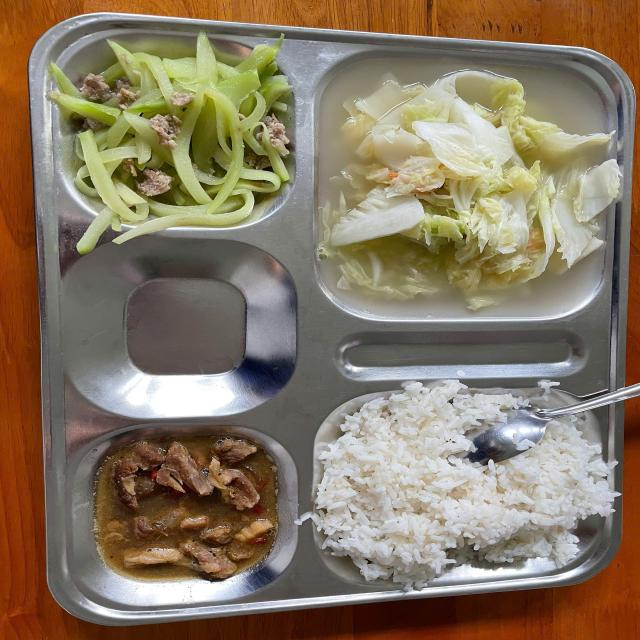canhchua: (324, 60, 612, 318)
salad: (324, 392, 602, 574)
suluoc: (55, 38, 296, 226)
thitkhogung: (92, 440, 277, 578)
